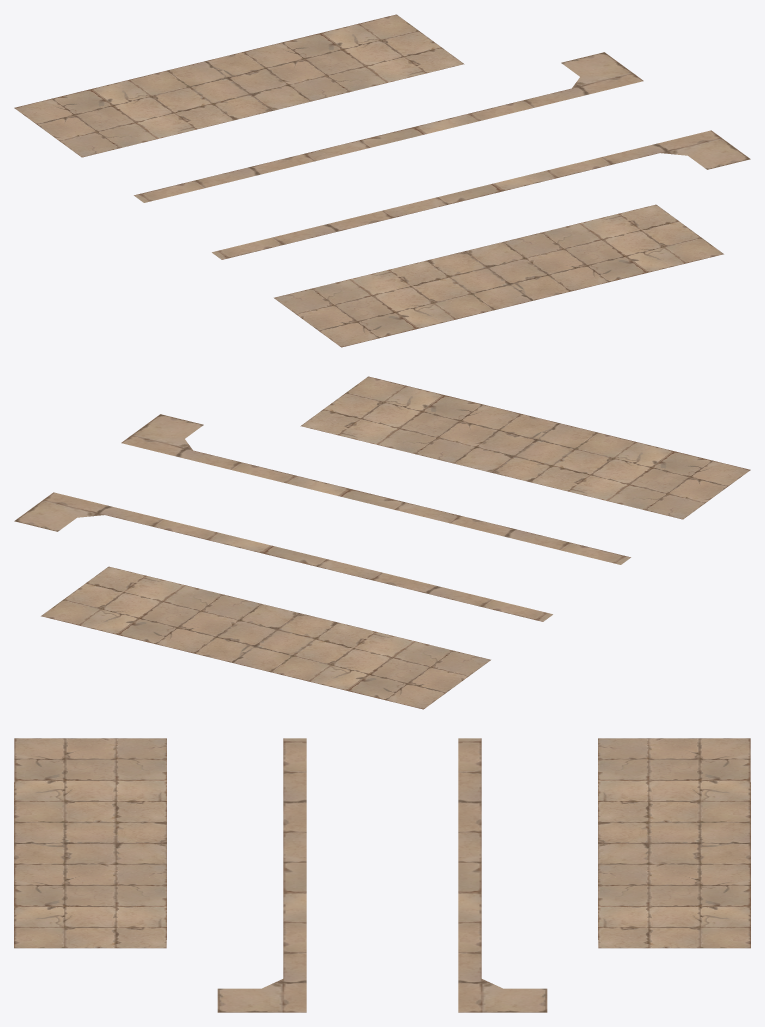
File: Ground19_Build_LostTemple_002.FBX
3 views of the same model, one above another, from view 1: azimuth 30°, elevation 25°; view 2: azimuth 150°, elevation 25°; view 3: azimuth 270°, elevation 25° (orthographic). The views are drawn at different scales.
Visible parts, largest first — view 1: Ground19_Build_LostTemple_002; view 2: Ground19_Build_LostTemple_002; view 3: Ground19_Build_LostTemple_002.
Part boxes in pixels (box(x1,y1,x2,y2)): Ground19_Build_LostTemple_002: box(14, 14, 750, 347); Ground19_Build_LostTemple_002: box(14, 376, 750, 709); Ground19_Build_LostTemple_002: box(14, 738, 750, 1012).
Size of the model in its own units: 1733 by 0.0944 by 1967.
Materials: 1 (1 with a texture image).
